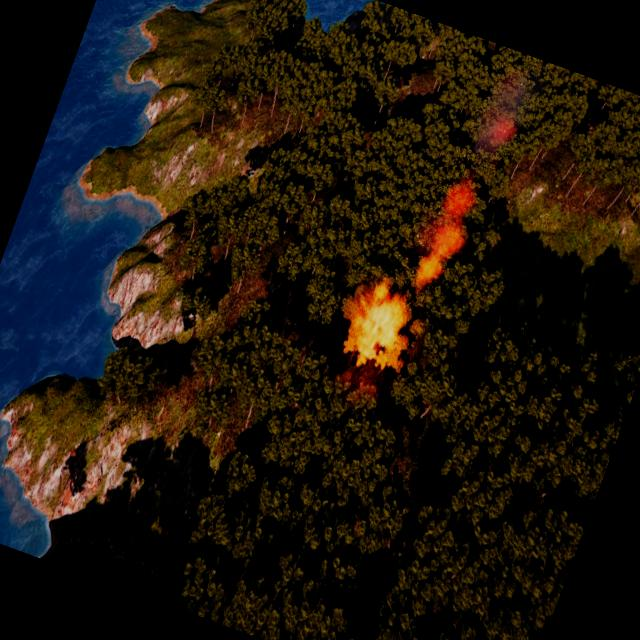fire: (339, 282, 421, 384)
smoke: (406, 59, 540, 306)
